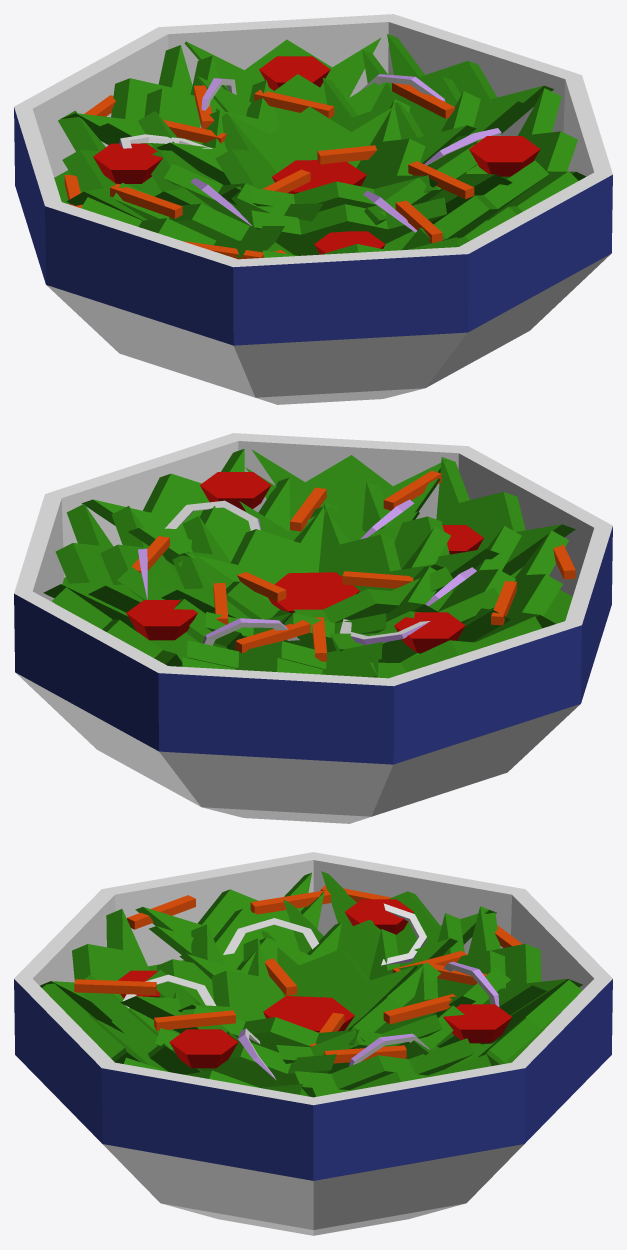
File: R_Salad_2.fbx
The picture shows the model from 3 angles, top to bottom: view 1: azimuth 30°, elevation 25°; view 2: azimuth 150°, elevation 25°; view 3: azimuth 270°, elevation 25°; orthographic projection. The views are drawn at different scales.
Visible parts, largest first — view 1: R_Salad_2; view 2: R_Salad_2; view 3: R_Salad_2.
Boxes of the visible parts, box(x1,y1,x2,y2) form: R_Salad_2: box(14, 14, 612, 404); R_Salad_2: box(14, 433, 612, 823); R_Salad_2: box(14, 852, 612, 1235).
Bounding box in the file's own units: 161 × 161 × 60.28.
